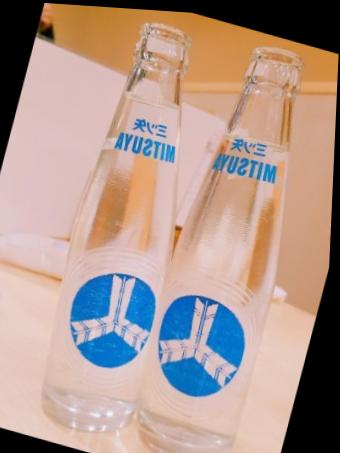glass: (100, 24, 337, 452), (43, 23, 244, 452)
